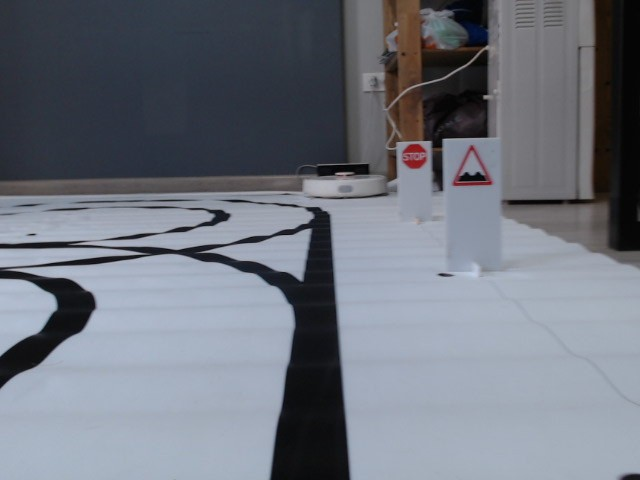Nerov: (449, 143, 494, 188)
Stop: (400, 143, 427, 169)
